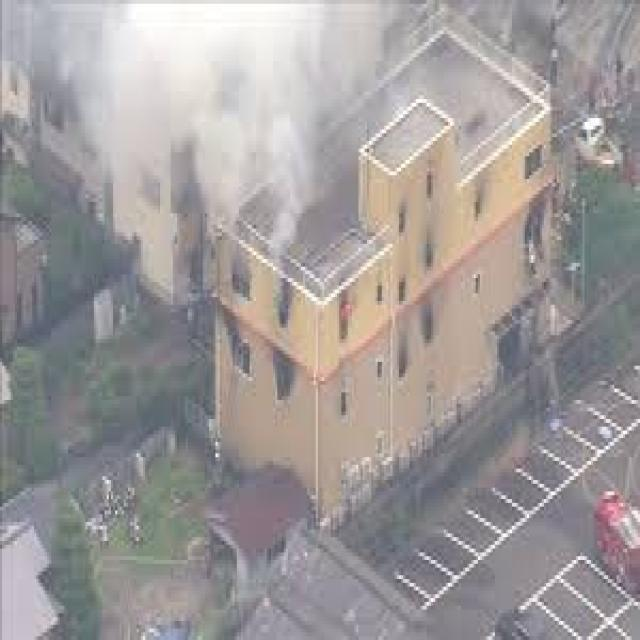Smoke: (92, 333, 366, 632), (64, 0, 356, 268)
